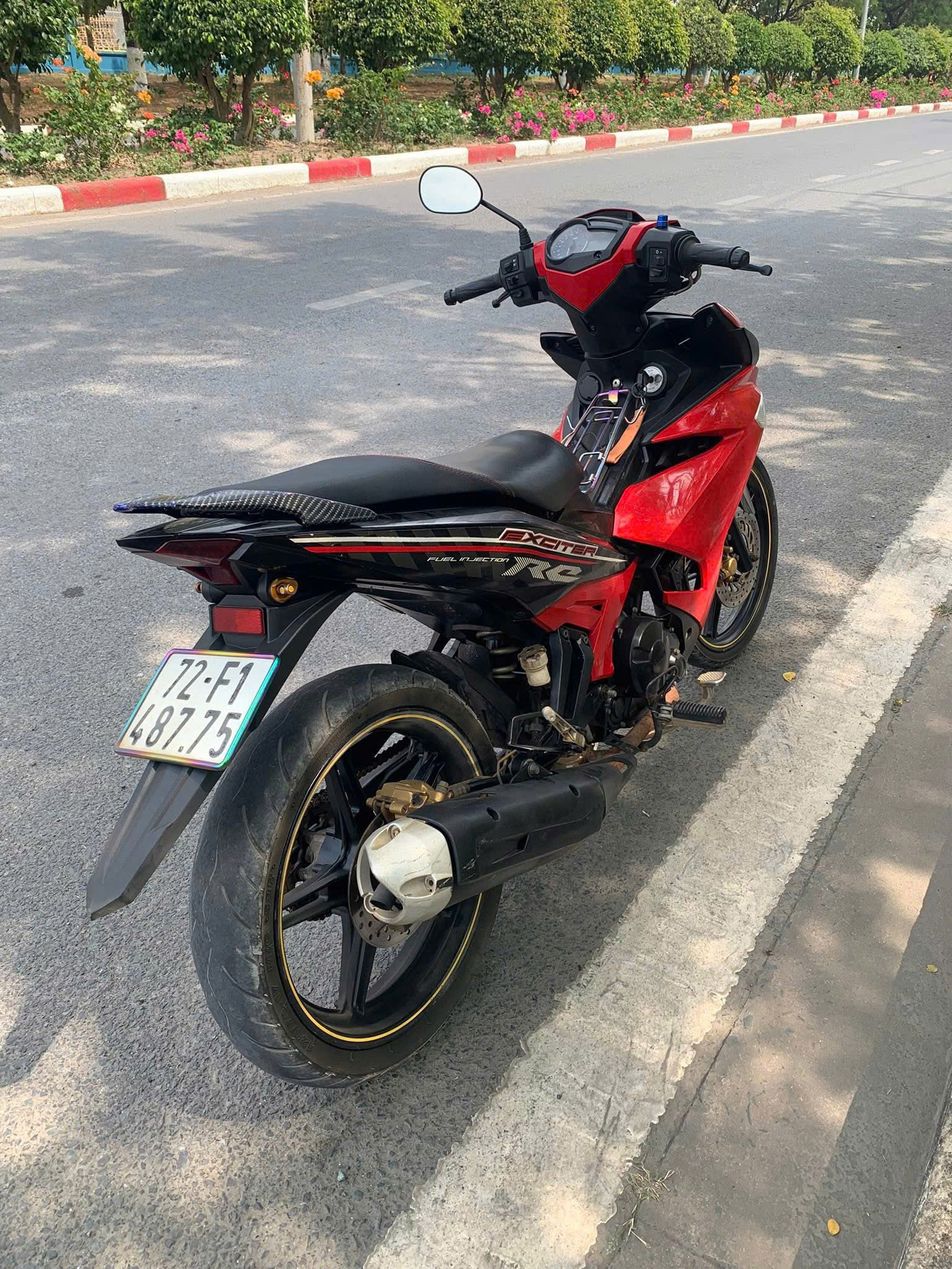Bien-so: (115, 649, 272, 771)
